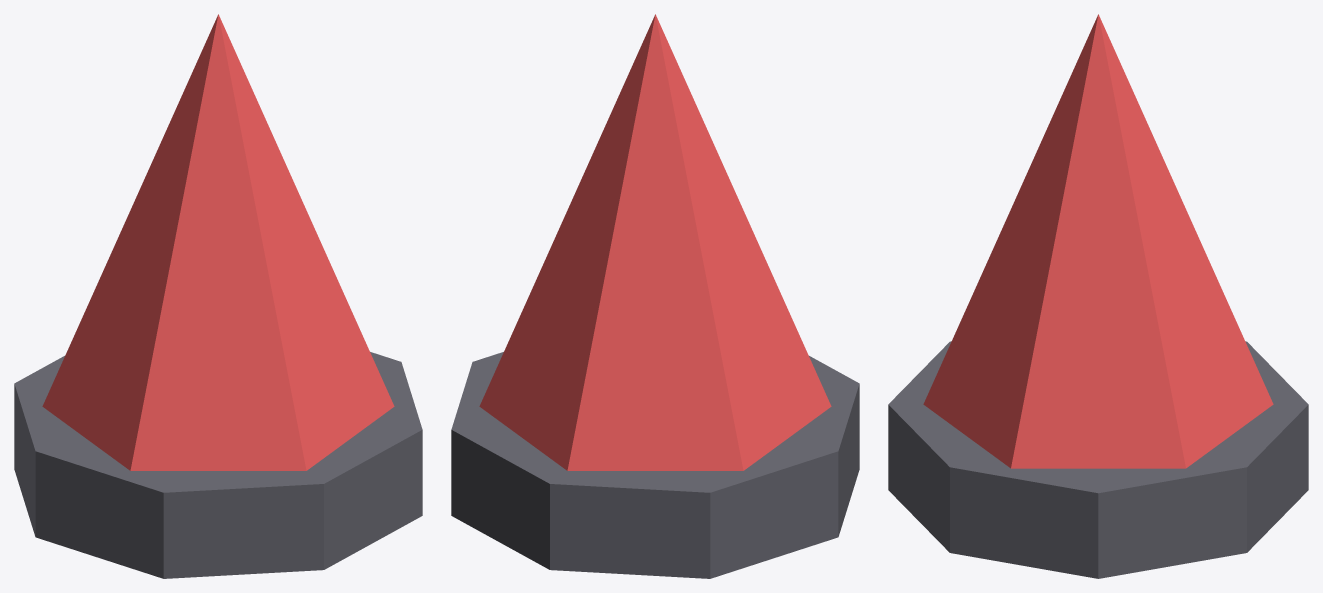
The model's file is Obstacle_Spike.fbx.
The picture shows the model from 3 angles, left to right: view 1: azimuth 30°, elevation 25°; view 2: azimuth 150°, elevation 25°; view 3: azimuth 270°, elevation 25°; orthographic projection.
Visible parts, largest first — view 1: Obstacle_Spike; view 2: Obstacle_Spike; view 3: Obstacle_Spike.
Boxes of the visible parts, bbox=[...] form: Obstacle_Spike: bbox=[14, 14, 422, 578]; Obstacle_Spike: bbox=[451, 14, 859, 578]; Obstacle_Spike: bbox=[888, 14, 1308, 578].
Bounding box in the file's own units: 1.44 × 1.8 × 1.44.
